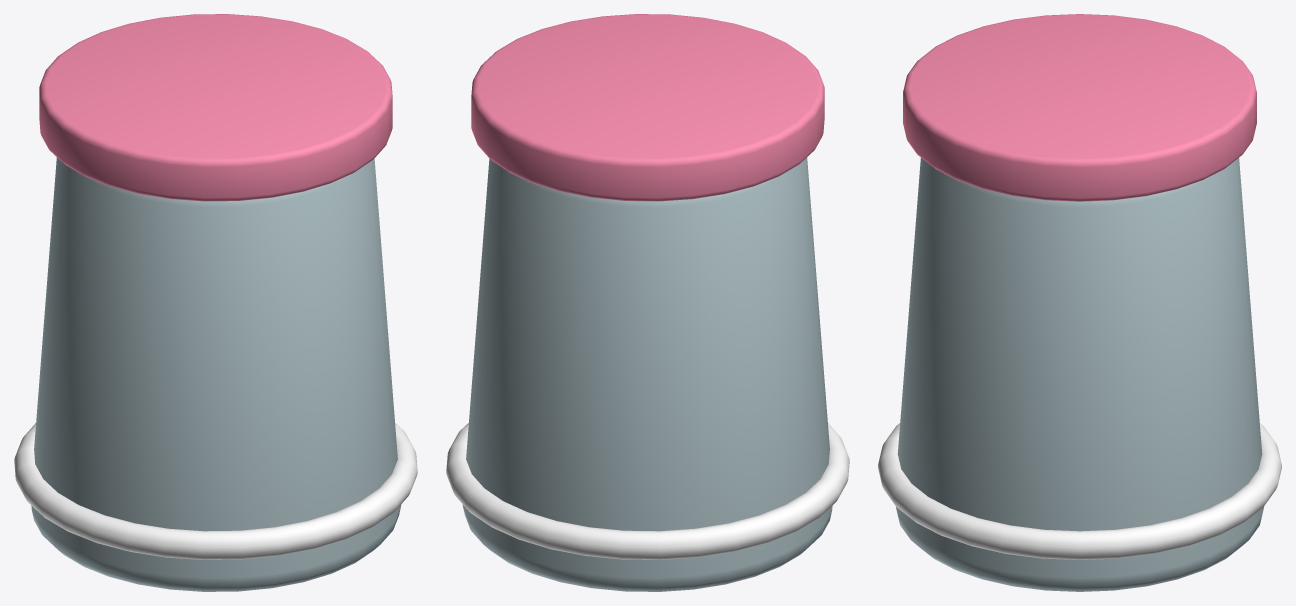
Rendered from object-sprinkle-jar.glb.
The picture shows the model from 3 angles, left to right: view 1: azimuth 30°, elevation 25°; view 2: azimuth 150°, elevation 25°; view 3: azimuth 270°, elevation 25°; orthographic projection.
Visible parts, largest first — view 1: part-jar-mesh; view 2: part-jar-mesh; view 3: part-jar-mesh.
Part boxes in pixels (left/top/right/bottom): part-jar-mesh: left=14, top=14, right=417, bottom=591; part-jar-mesh: left=446, top=14, right=849, bottom=591; part-jar-mesh: left=878, top=14, right=1281, bottom=591.
Bounding box in the file's own units: 0.7759 × 0.92 × 0.7759.
